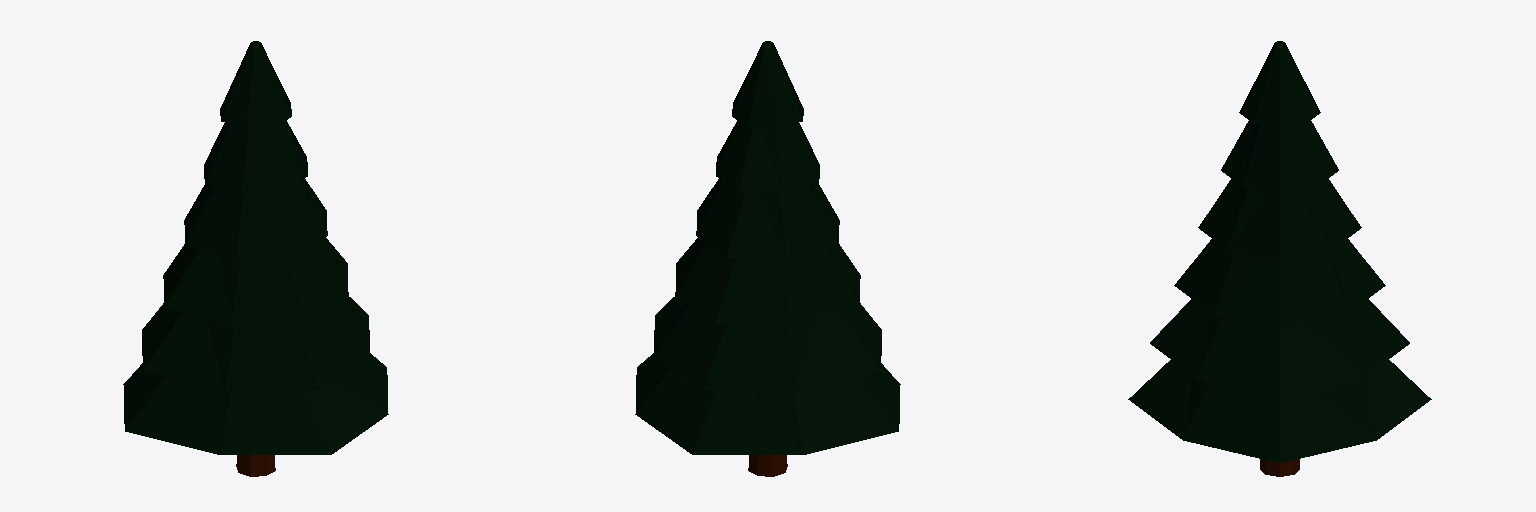
File: pinetree.obj
3 renders of one model, left to right at view 1: azimuth 30°, elevation 25°; view 2: azimuth 150°, elevation 25°; view 3: azimuth 270°, elevation 25°, orthographic.
Parts seen in each view (by area): view 1: Cylinder_Cylinder.001, Cylinder.001_Cylinder.002; view 2: Cylinder_Cylinder.001, Cylinder.001_Cylinder.002; view 3: Cylinder_Cylinder.001, Cylinder.001_Cylinder.002.
Boxes of the visible parts, box(x1,y1,x2,y2) form: Cylinder_Cylinder.001: box(123, 41, 388, 454); Cylinder.001_Cylinder.002: box(236, 455, 275, 476); Cylinder_Cylinder.001: box(635, 41, 900, 454); Cylinder.001_Cylinder.002: box(748, 455, 787, 476); Cylinder_Cylinder.001: box(1128, 41, 1431, 462); Cylinder.001_Cylinder.002: box(1260, 459, 1299, 476).
Size of the model in its own units: 4 by 6.19 by 4.